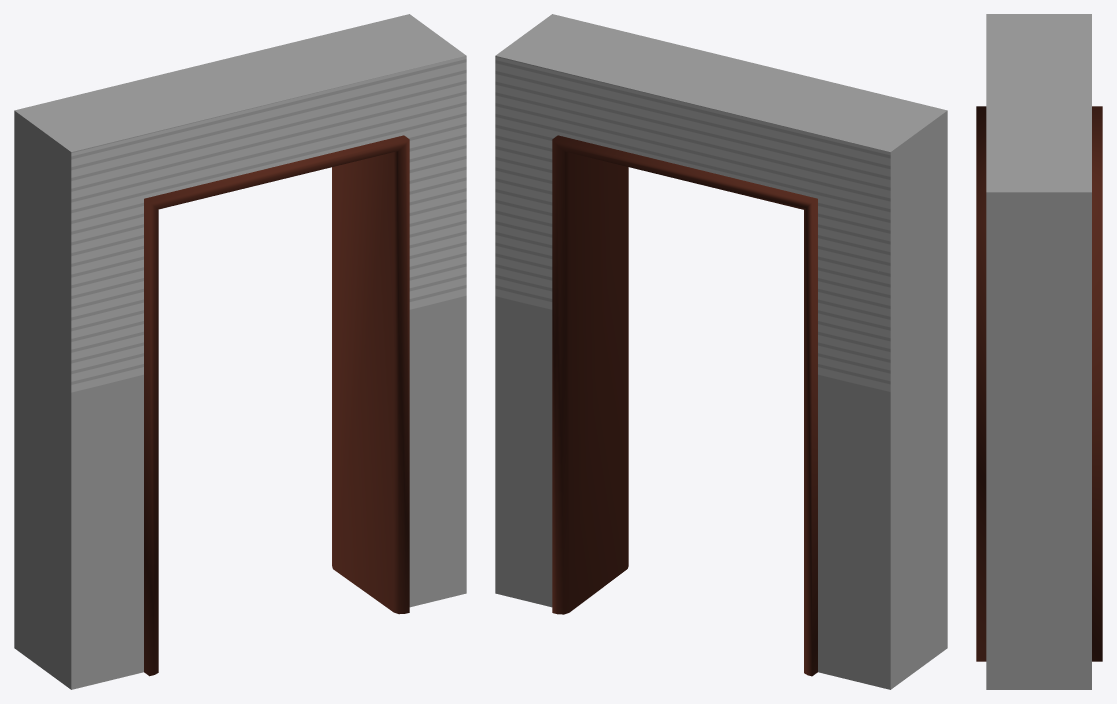
Rendered from Balken.fbx_Wand_Durchgang.fbx.
The picture shows the model from 3 angles, left to right: view 1: azimuth 30°, elevation 25°; view 2: azimuth 150°, elevation 25°; view 3: azimuth 270°, elevation 25°; orthographic projection. The views are drawn at different scales.
Visible parts, largest first — view 1: Wand Durchgang, Durchgang.002; view 2: Wand Durchgang, Durchgang.002; view 3: Wand Durchgang, Durchgang.002.
Boxes of the visible parts, <box> form: Wand Durchgang: <box>14,14,466,689</box>; Durchgang.002: <box>144,135,409,676</box>; Wand Durchgang: <box>495,14,947,689</box>; Durchgang.002: <box>552,135,817,676</box>; Wand Durchgang: <box>986,14,1091,689</box>; Durchgang.002: <box>976,106,1102,661</box>.
Bounding box in the file's own units: 2 × 2.6 × 0.5982.
